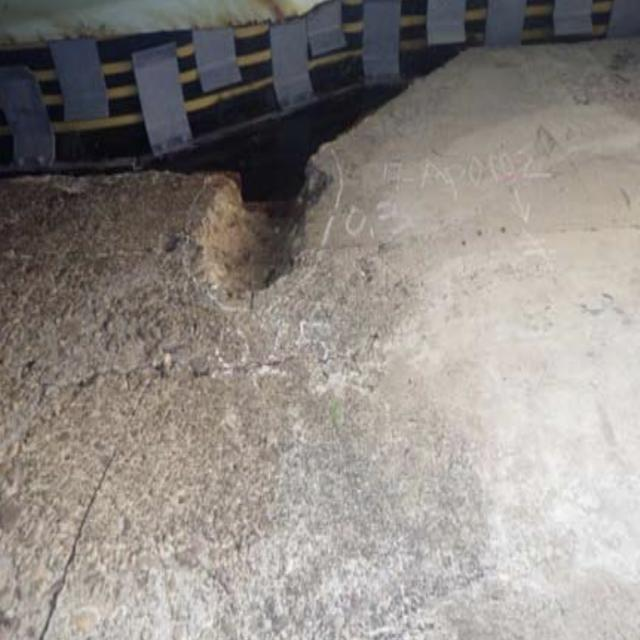spalling: (169, 142, 340, 308)
